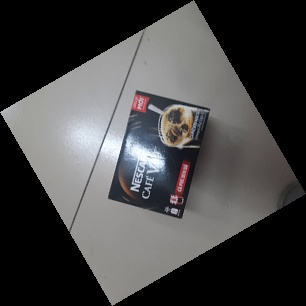CF Viet: (106, 90, 212, 220)
